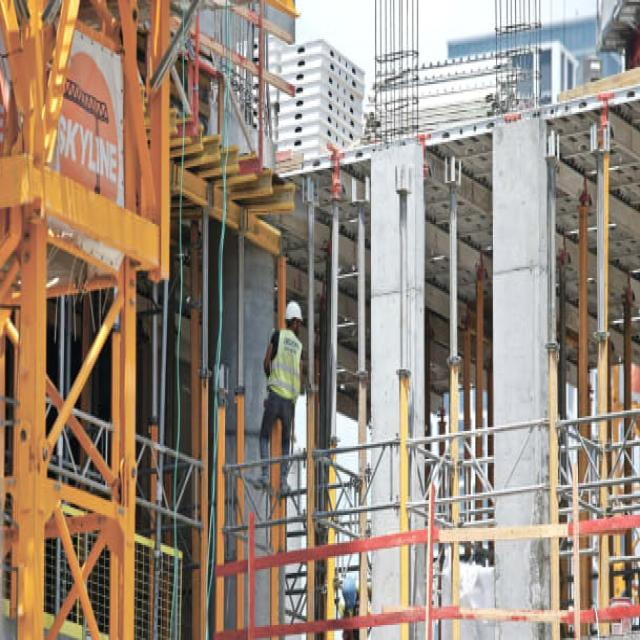Reflective-Jacket: (267, 330, 304, 403)
Safety-Helmet: (285, 296, 304, 322)
